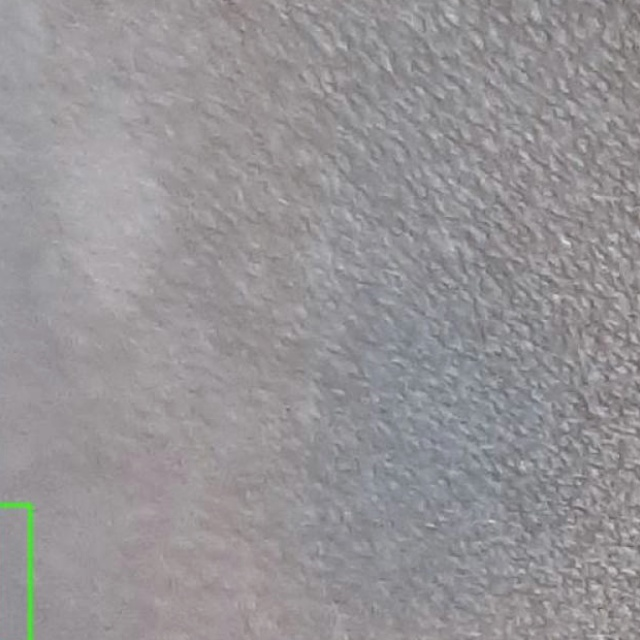Atopic Dermatitis: (0, 504, 30, 639)
